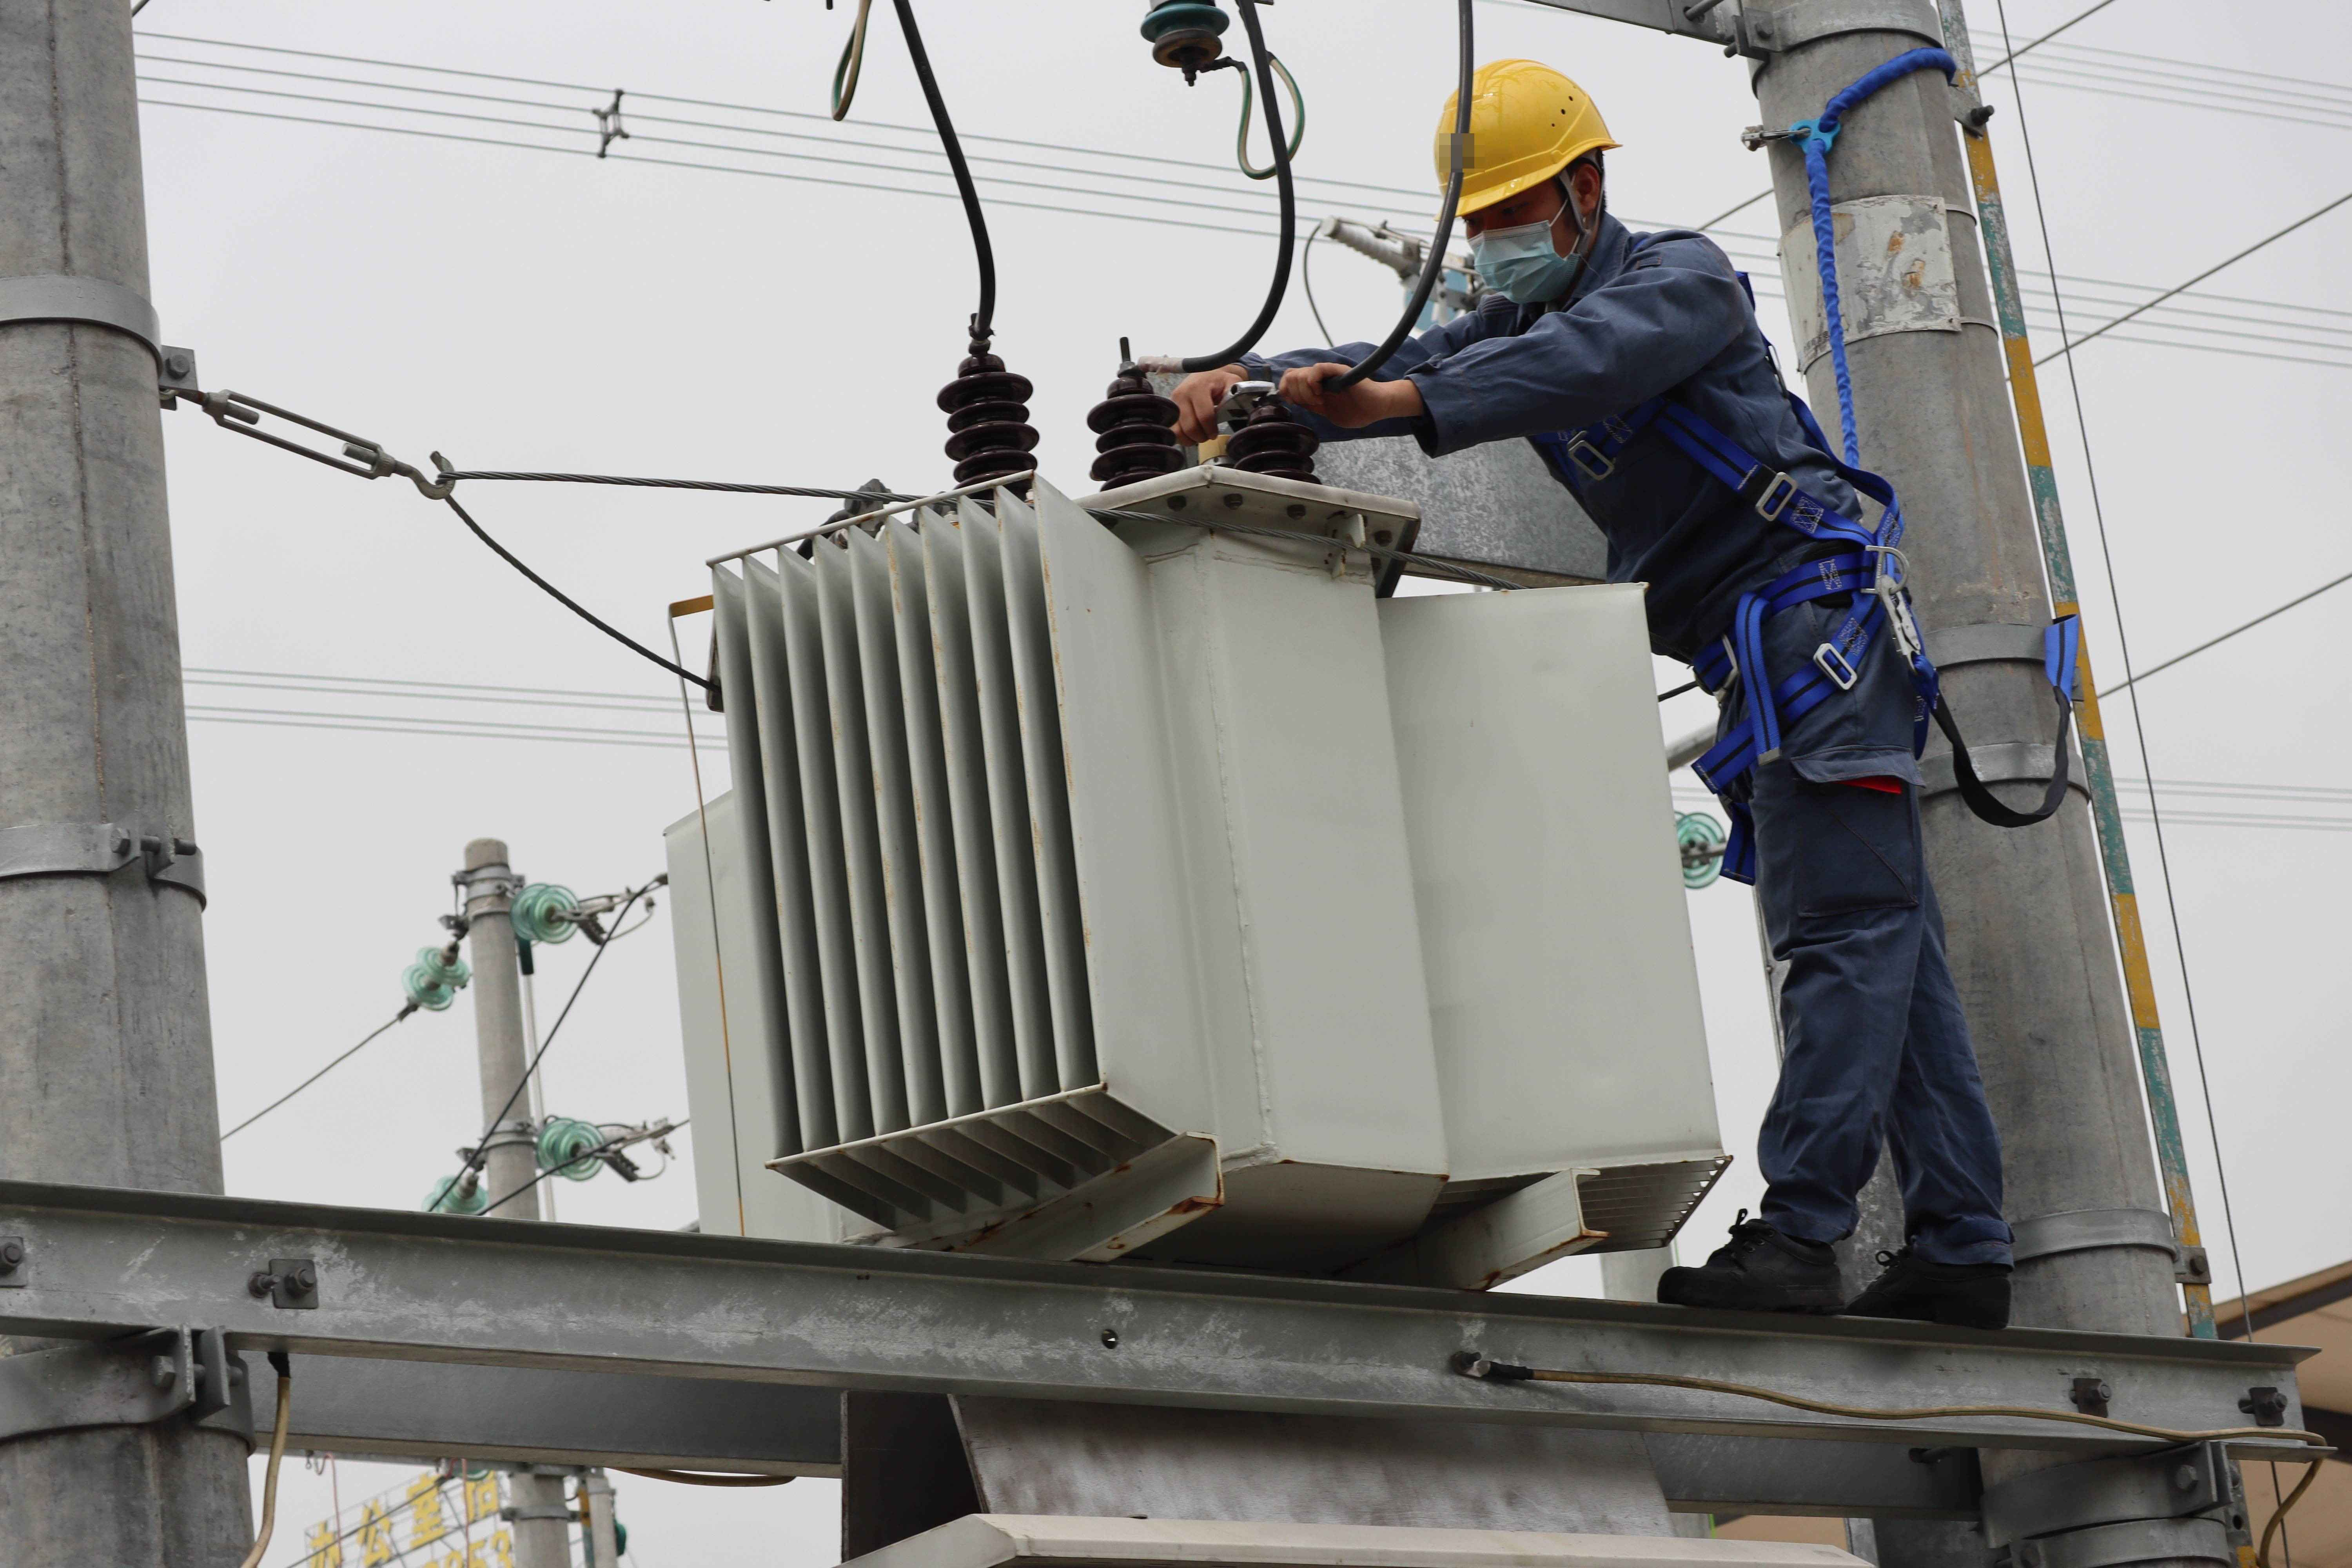downsuit: (1687, 616, 2026, 1255)
upsuit: (1262, 201, 1855, 546)
